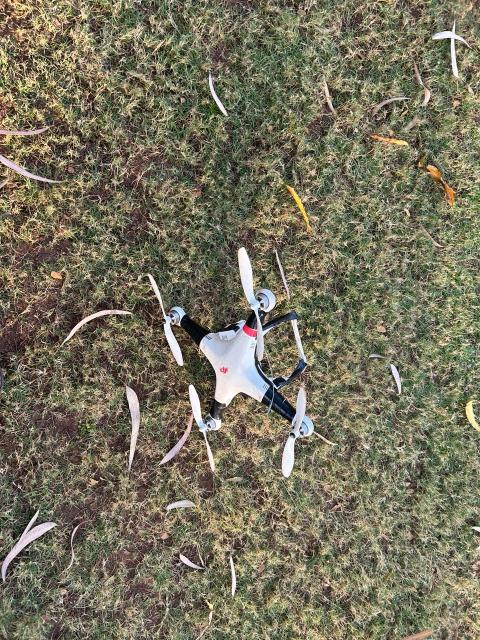drone: (101, 240, 398, 492)
